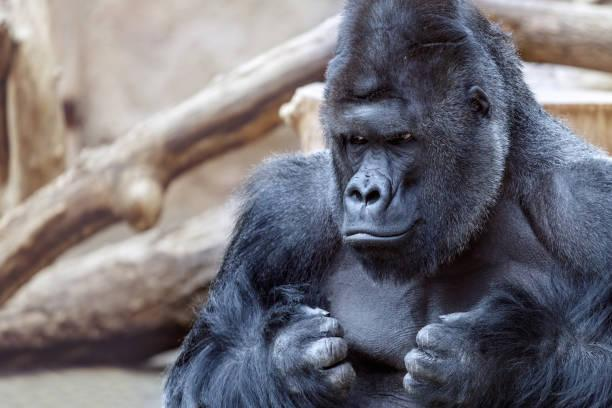goriile_montagne: (166, 0, 612, 408)
